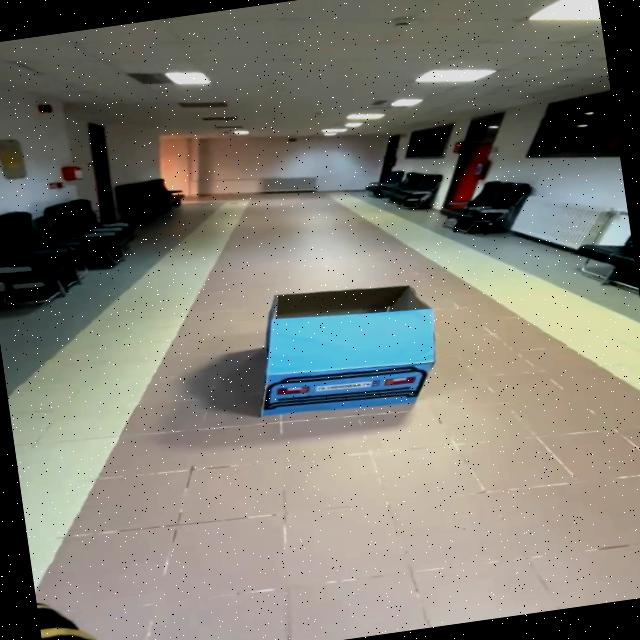blue_car: (219, 261, 478, 452)
